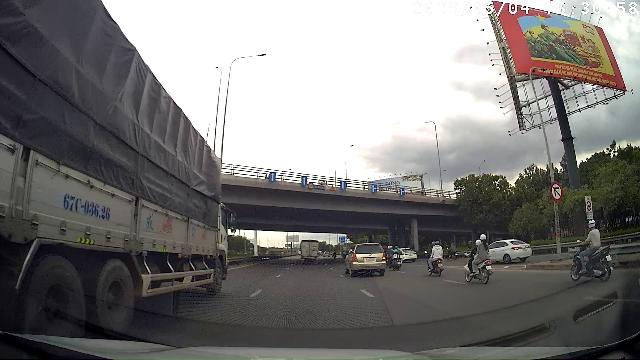123b-cam-re-phai: (550, 182, 564, 202)
